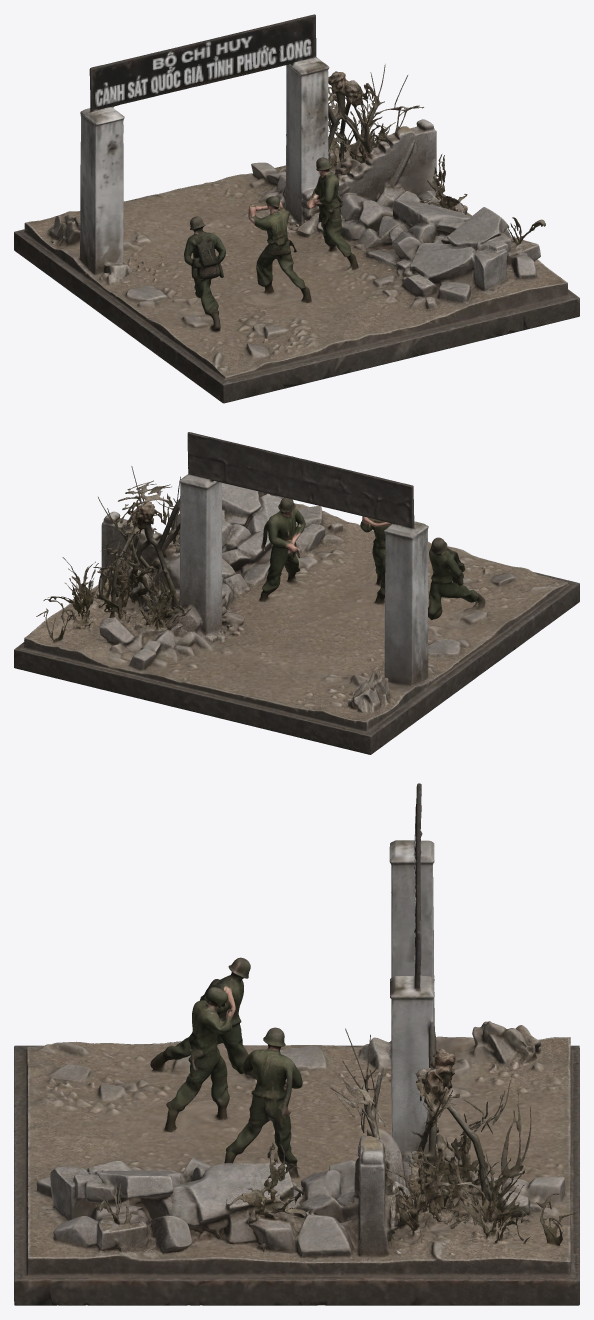
The model's file is chien_thang_phuoc_long.glb.
3 renders of one model, top to bottom at view 1: azimuth 30°, elevation 25°; view 2: azimuth 150°, elevation 25°; view 3: azimuth 270°, elevation 25°, orthographic. The views are drawn at different scales.
Size of the model in its own units: 1.87 by 1.11 by 1.9.
1 material, 1 textured.
